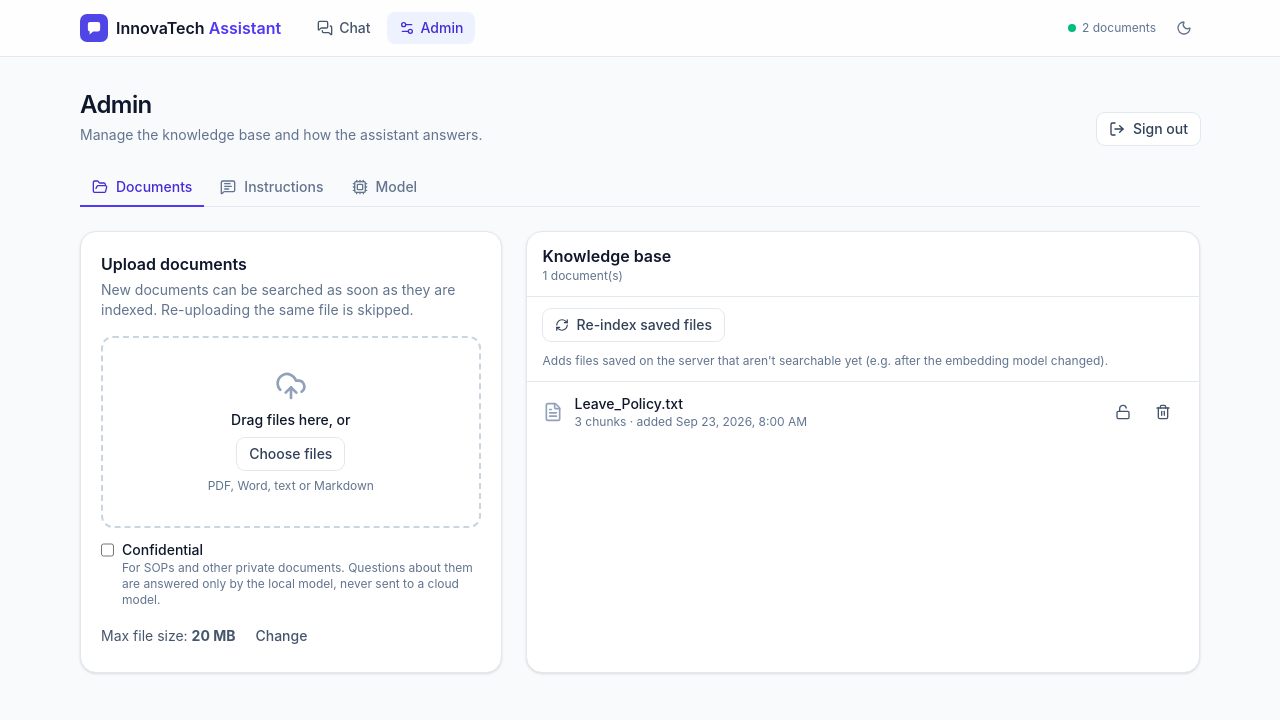
Documents › deletes a document after confirmation
Click the button named "Delete Leave_Policy.txt" at (1163, 412), box [1143,396,1183,428]
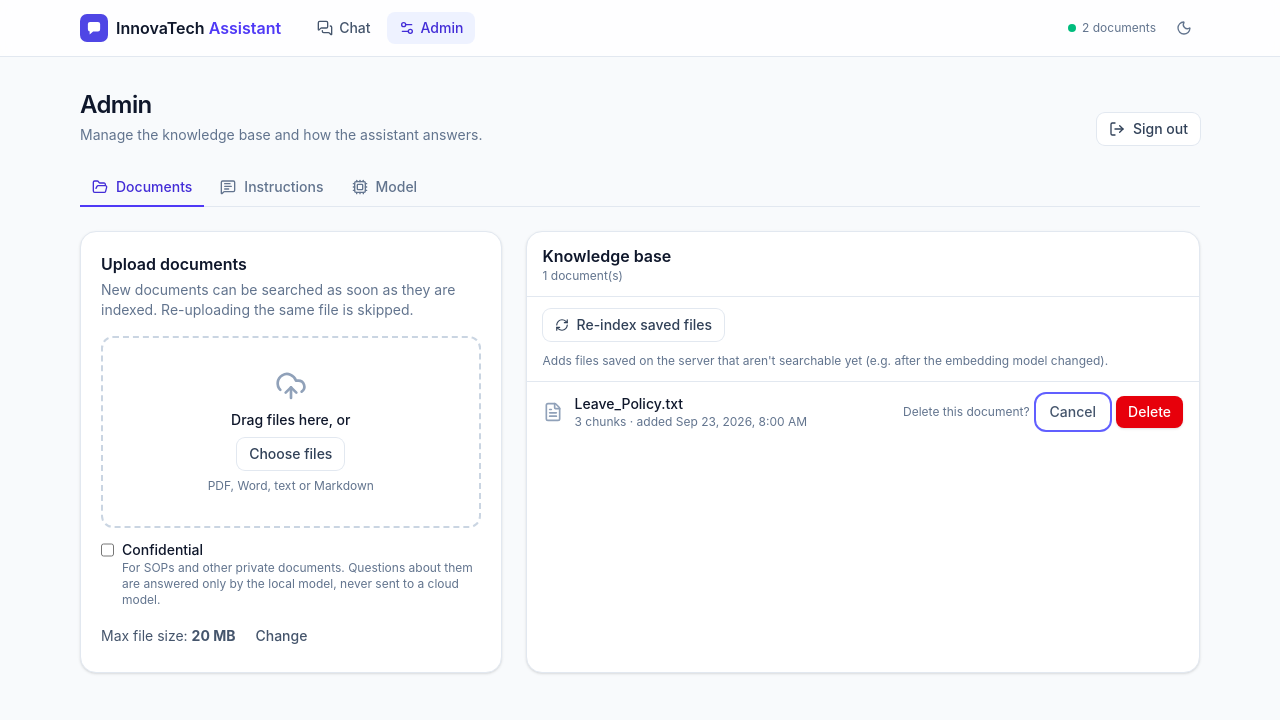
Now the text "Delete this document?" is shown, box [903,404,1030,420]
Click the button "Cancel" at (1073, 412), box [1038,396,1108,428]
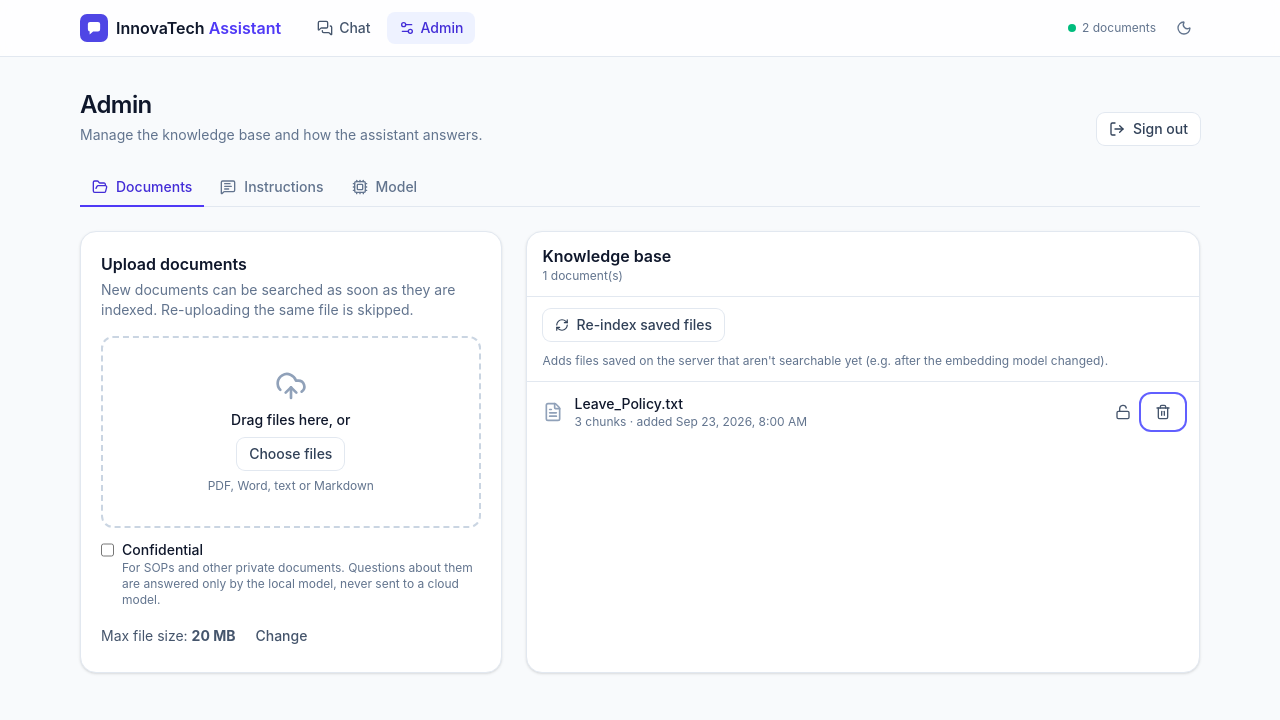
Click the button named "Delete Leave_Policy.txt" at (1163, 412), box [1143,396,1183,428]
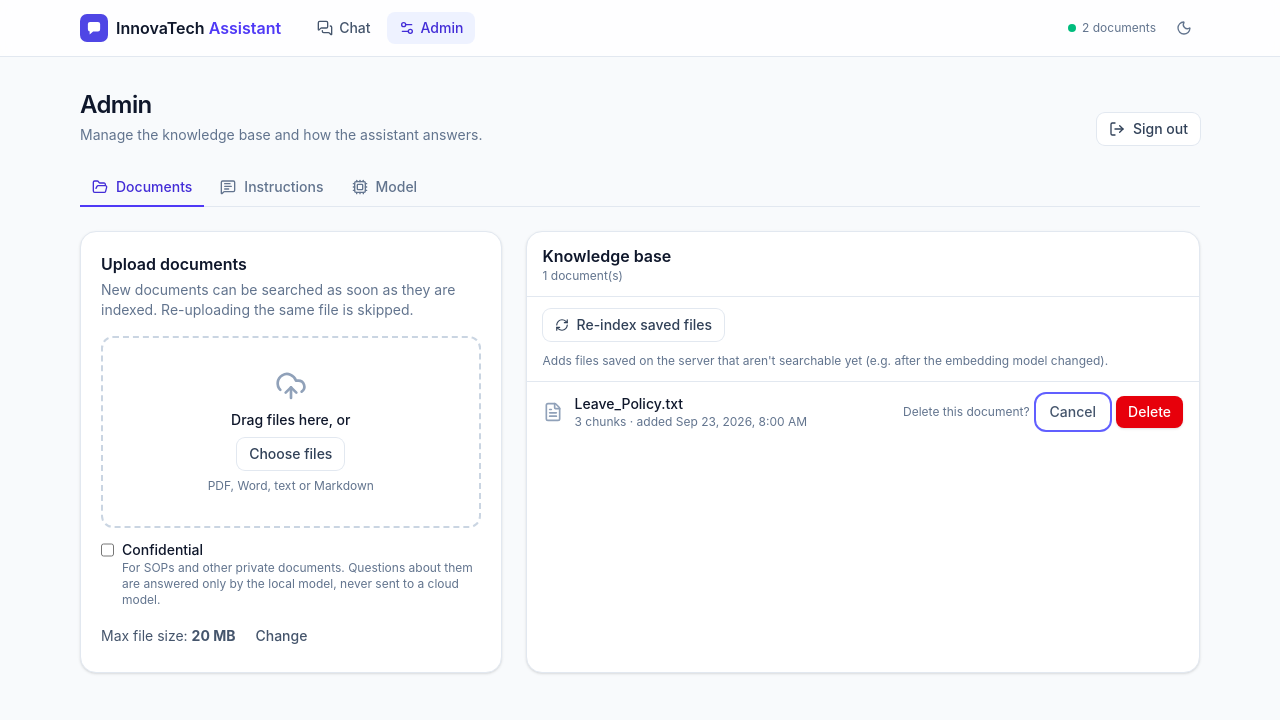
Click the button "Delete" at (1150, 412), box [1116,396,1183,428]
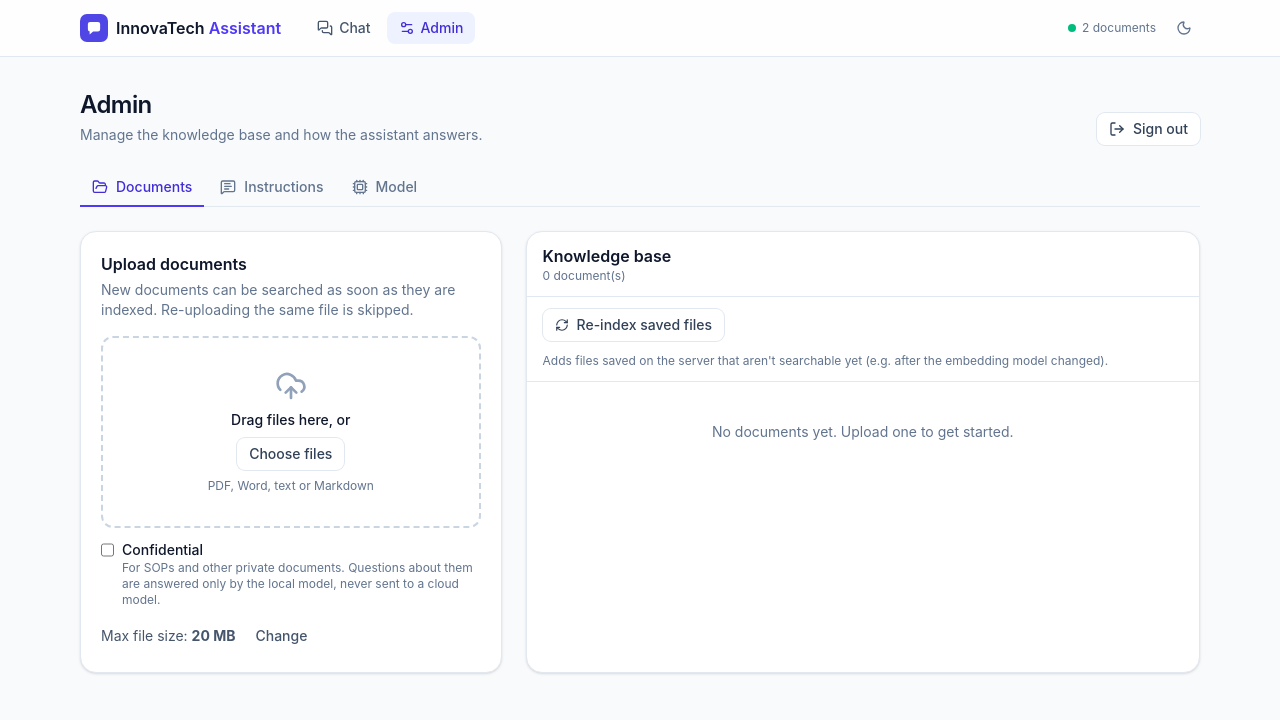
Now the text "No documents yet. Upload one to get started." is shown, box [712,423,1014,440]
